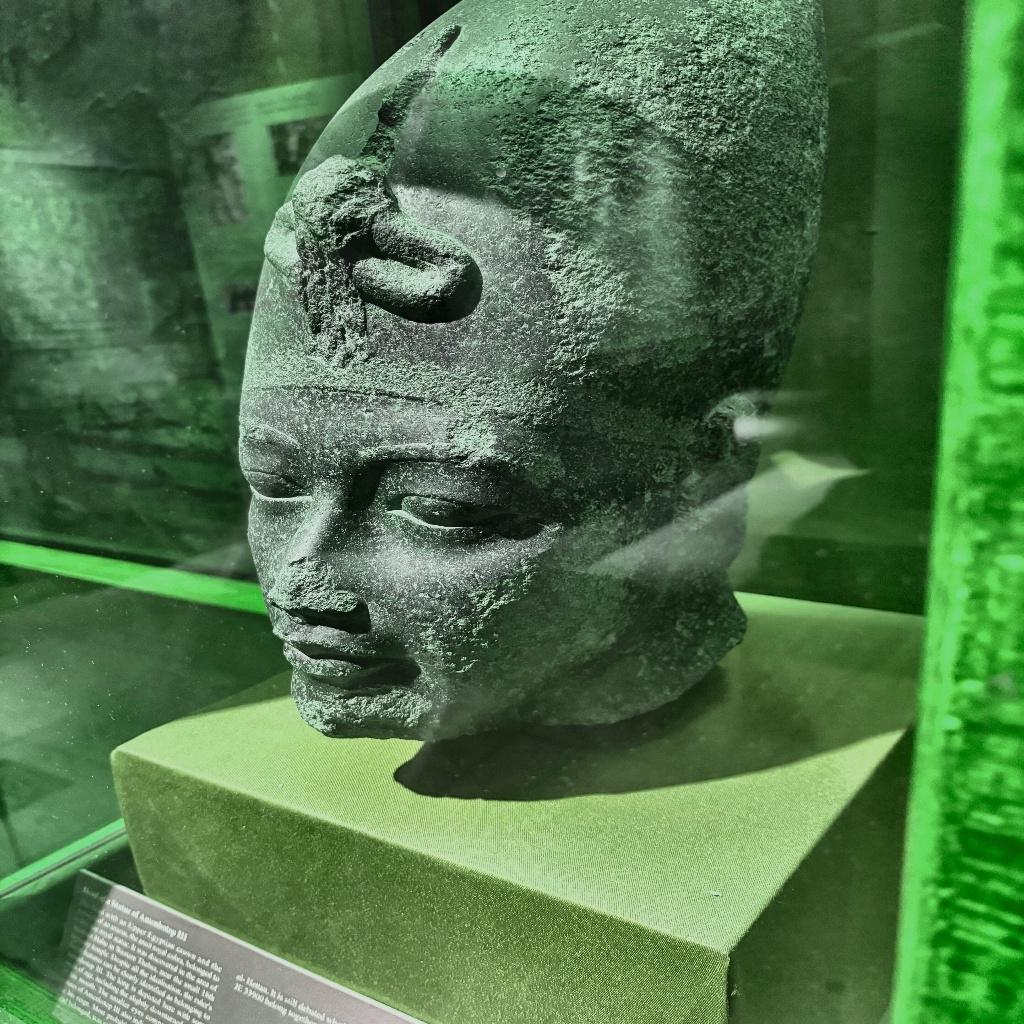Head Statue of Amenhotep III: (236, 0, 830, 731)
